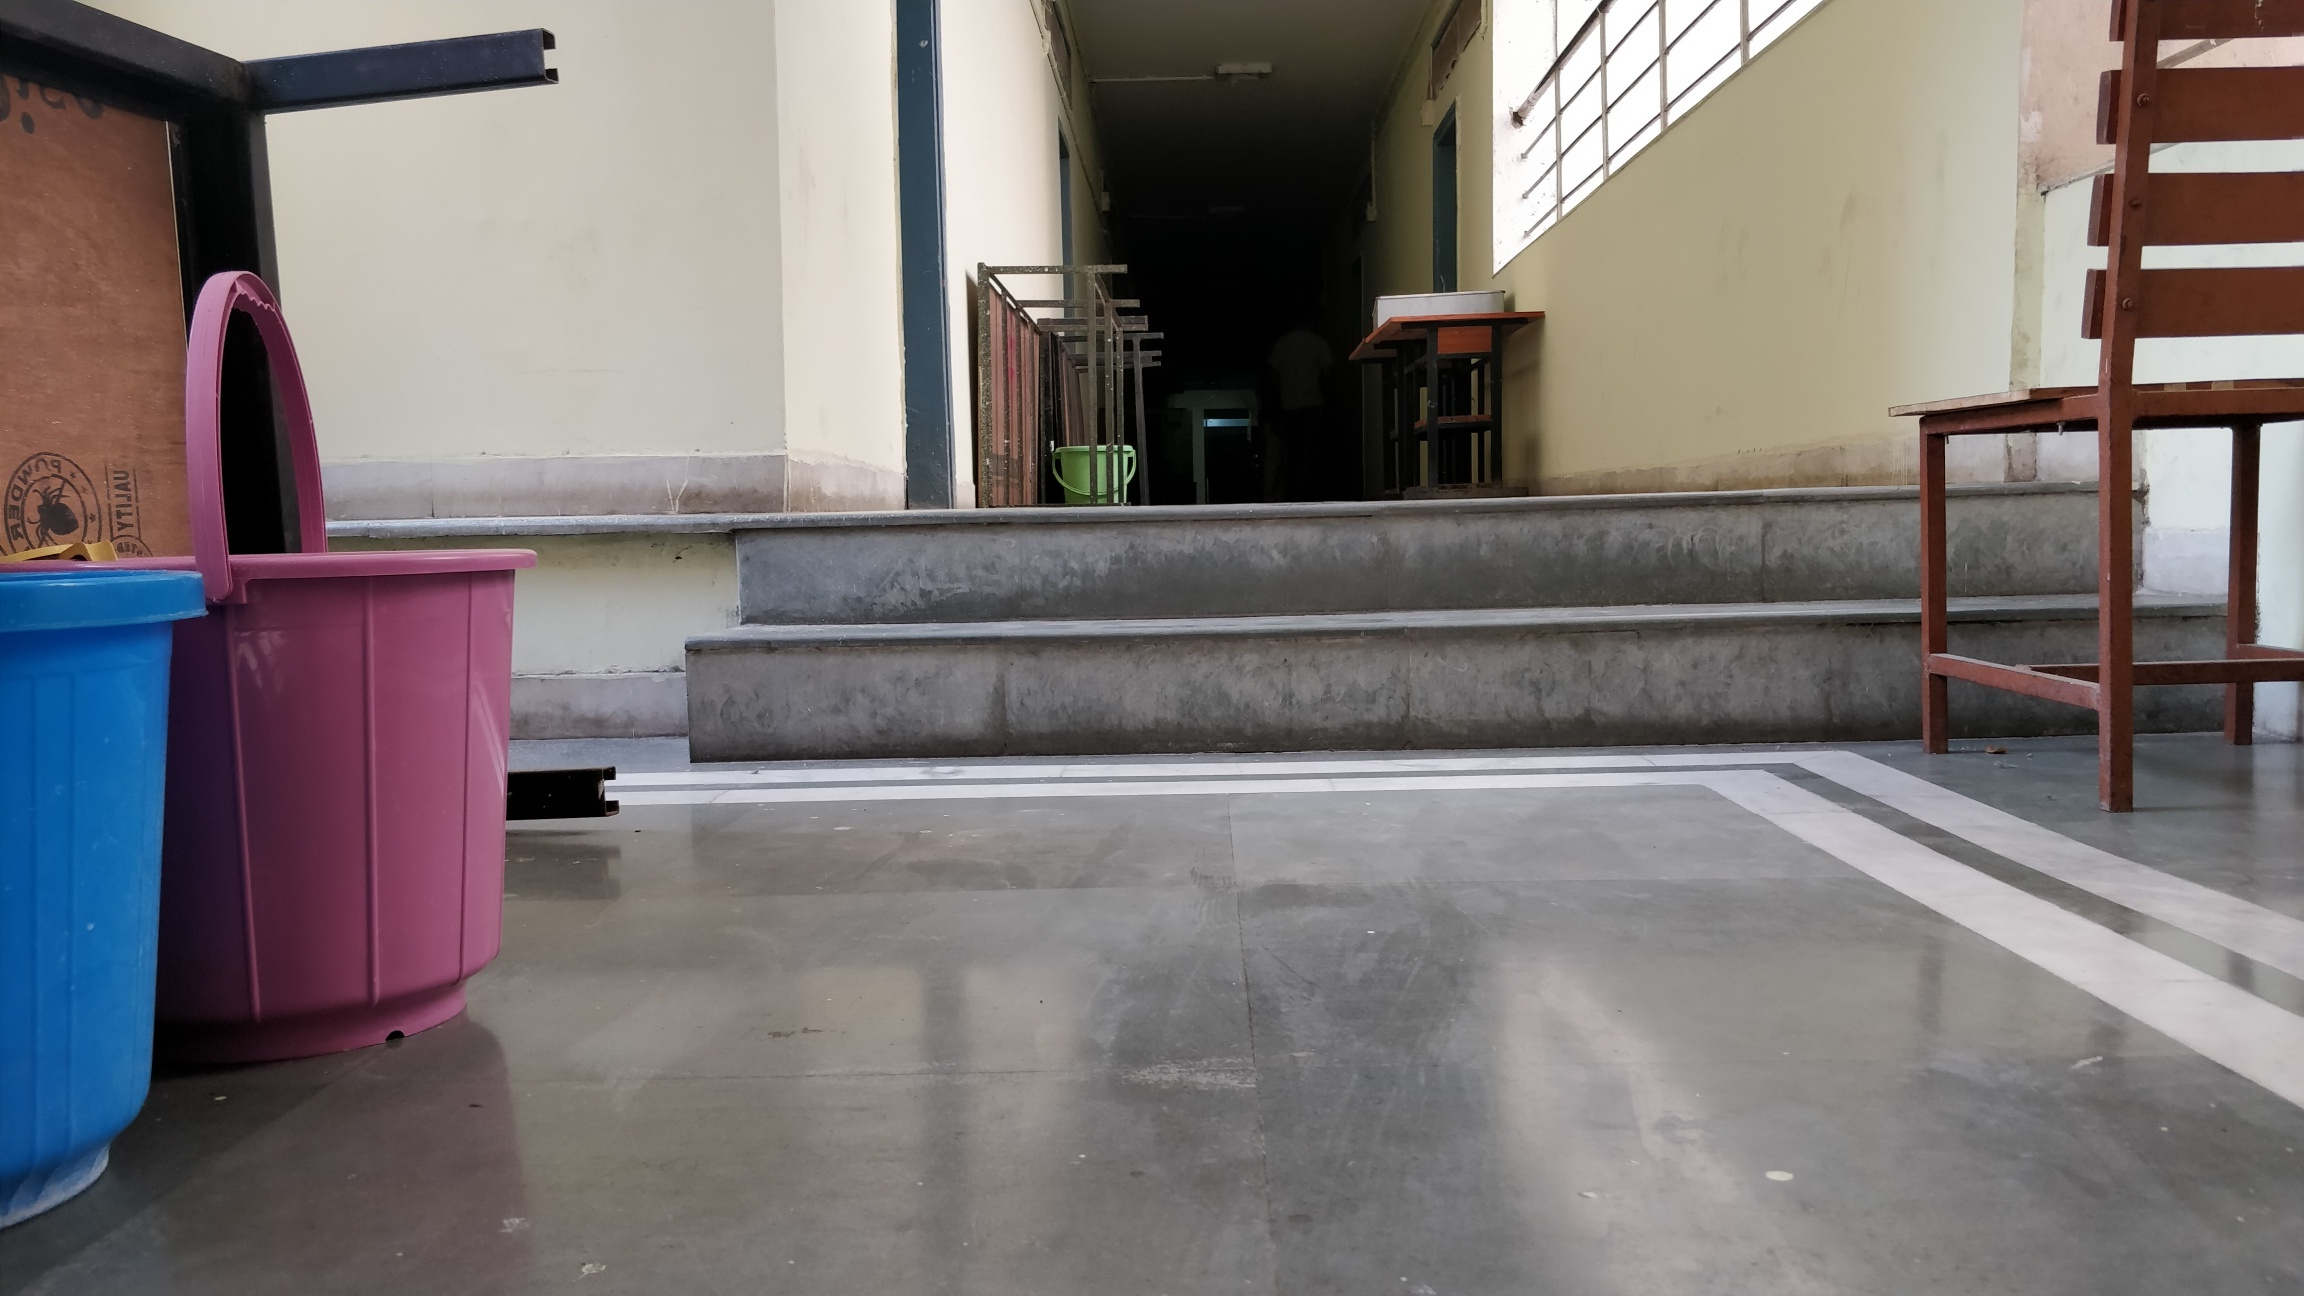stairs_up: (737, 506, 2234, 747)
